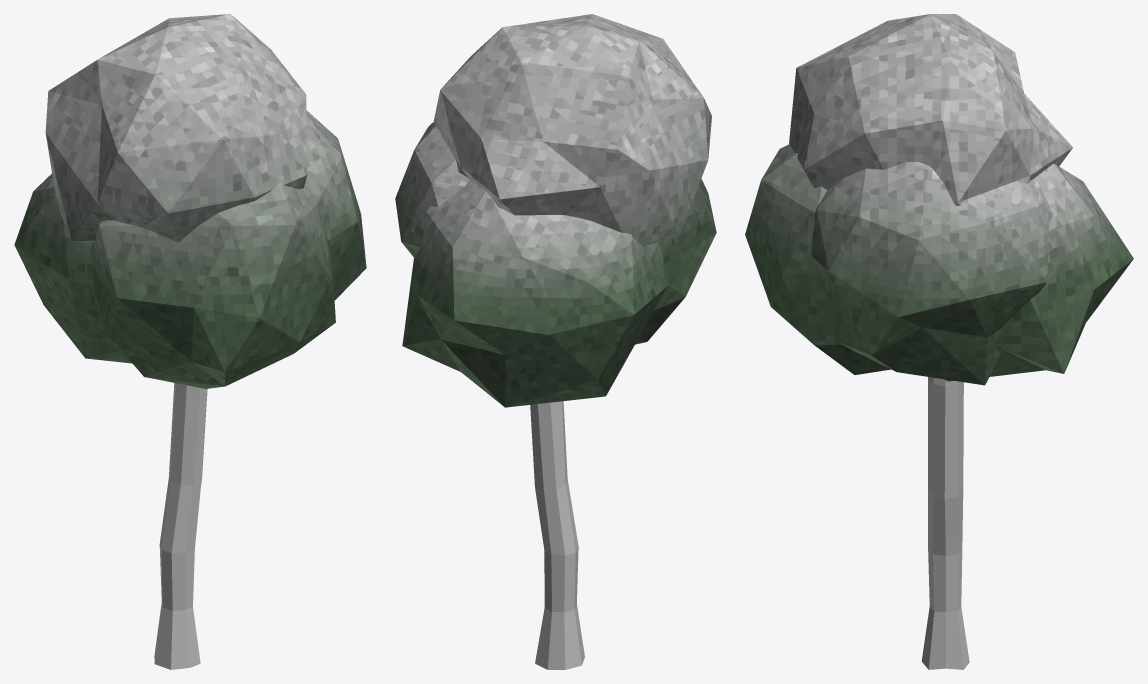
File: Tree0.obj
The picture shows the model from 3 angles, left to right: view 1: azimuth 30°, elevation 25°; view 2: azimuth 150°, elevation 25°; view 3: azimuth 270°, elevation 25°; orthographic projection.
Visible parts, largest first — view 1: Tree; view 2: Tree; view 3: Tree.
Part boxes in pixels (x1=…): Tree: x1=14, y1=14, x2=366, y2=669; Tree: x1=395, y1=14, x2=716, y2=669; Tree: x1=745, y1=14, x2=1133, y2=669.
Bounding box in the file's own units: 9.02 × 19.89 × 10.95.
